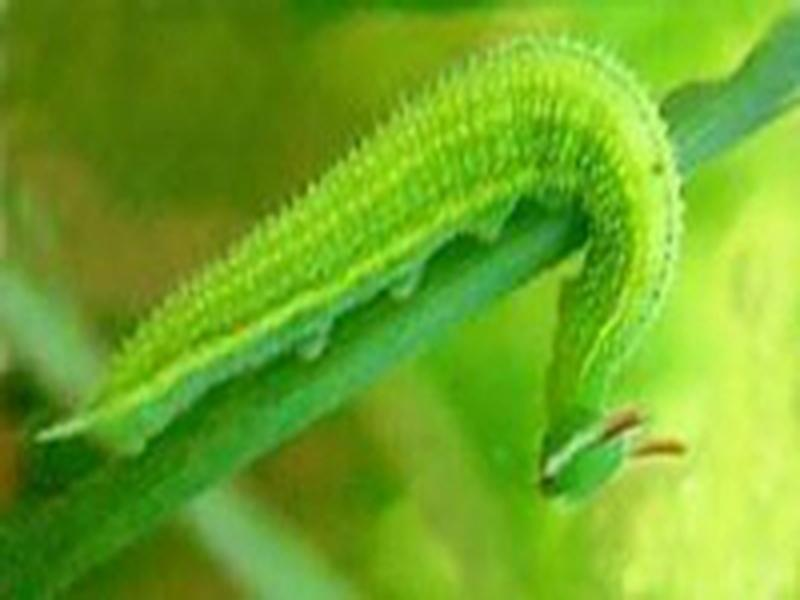Rice_horned_caterpillar: (63, 32, 704, 512)
